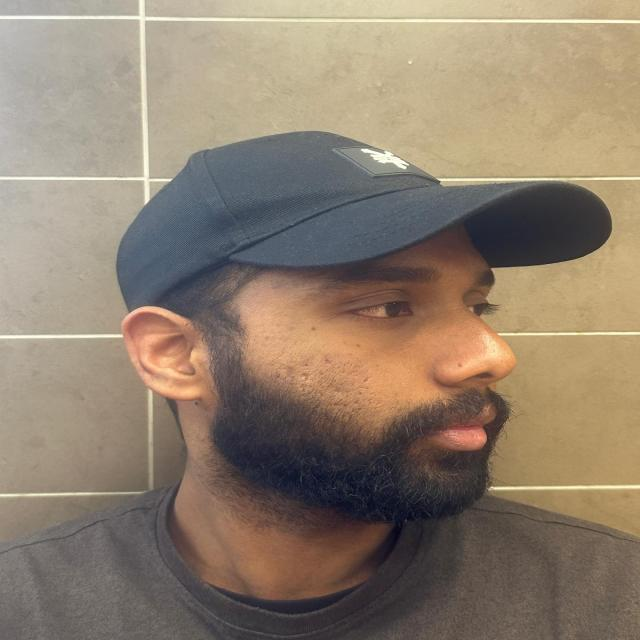cap: (93, 120, 639, 324)
